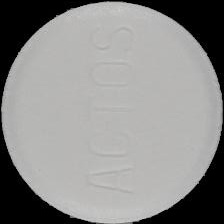54458-884: (0, 0, 224, 224)
